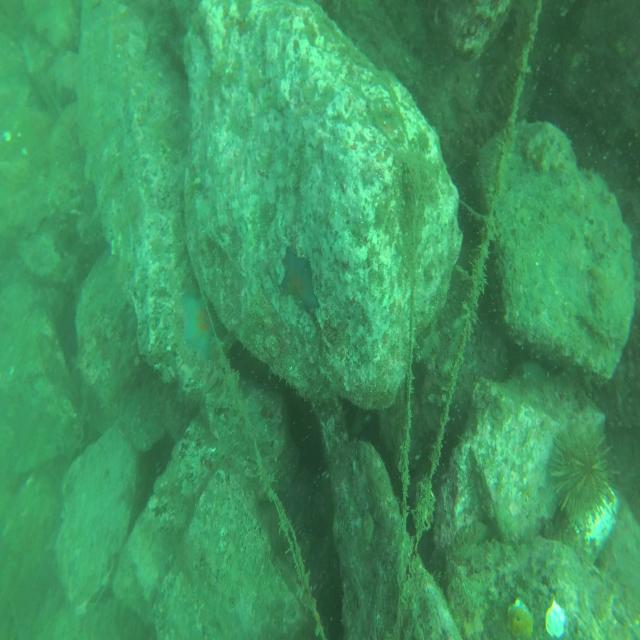echinus: (548, 419, 616, 537)
starfish: (276, 245, 322, 316), (177, 284, 216, 362)
